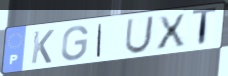G: (60, 24, 90, 63)
I: (95, 22, 104, 58)
K: (29, 28, 56, 65)
T: (190, 6, 219, 49)
U: (123, 15, 156, 55)
X: (156, 12, 187, 52)
